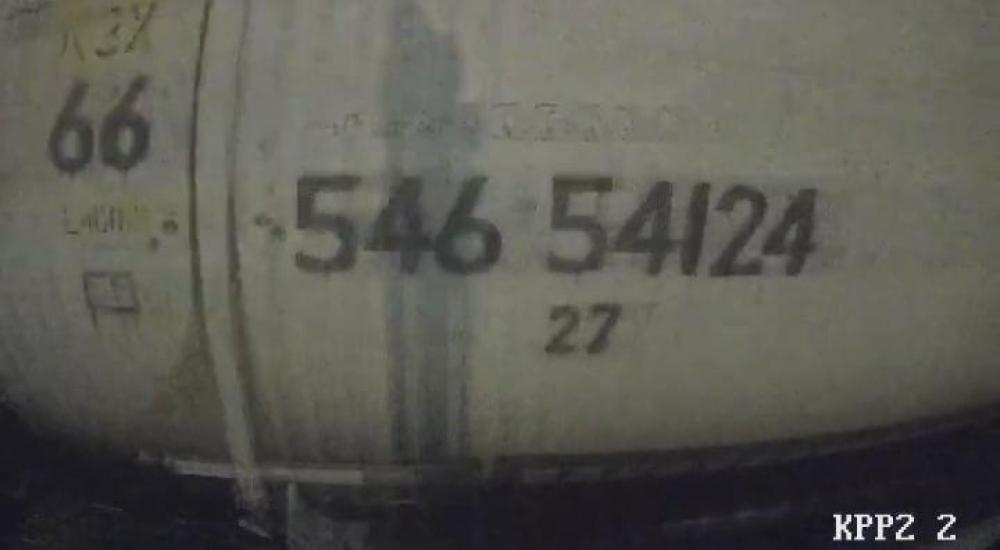Wagon-number: (291, 168, 825, 285)
